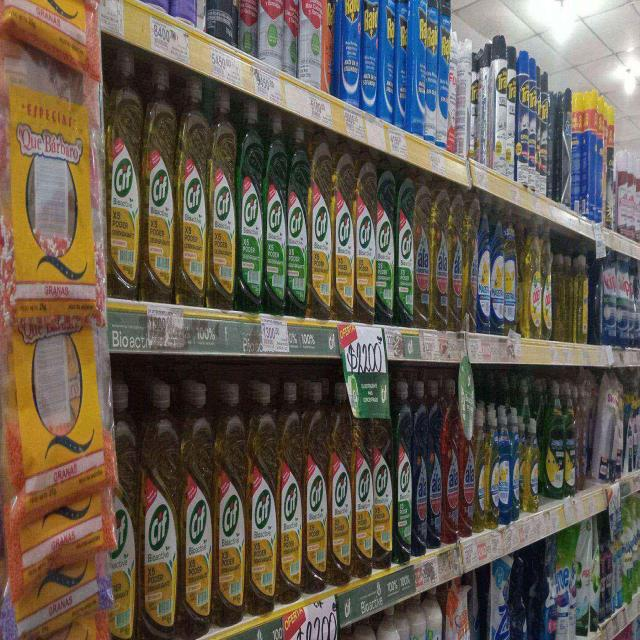ala_conc_amarillo: (431, 186, 449, 331), (414, 179, 431, 329), (449, 192, 464, 332)
ala_conc_azul: (427, 380, 442, 550), (413, 378, 427, 556)
ala_conc_rojo: (442, 379, 459, 544), (460, 402, 474, 538)
ala_crem_blanco: (426, 587, 442, 640), (409, 594, 426, 640)
cif_conc_bot_amarilla: (139, 377, 179, 638), (107, 42, 141, 298), (180, 379, 212, 637), (214, 378, 246, 624), (143, 64, 175, 301), (247, 380, 277, 614), (177, 72, 207, 306), (209, 85, 236, 310), (278, 379, 303, 603), (304, 377, 328, 593), (329, 380, 352, 585), (309, 134, 332, 320), (333, 144, 354, 320), (352, 394, 372, 577), (373, 394, 393, 569), (355, 155, 375, 321)
cif_conc_botella_verde: (237, 99, 263, 312), (264, 111, 287, 315), (287, 121, 308, 316), (394, 379, 412, 563), (376, 163, 394, 324), (395, 172, 413, 326)
magistral_con_amarillo: (524, 416, 540, 514), (486, 406, 498, 528), (475, 407, 486, 532)
magistral_con_azul: (477, 208, 490, 334), (491, 214, 504, 334), (498, 406, 511, 525), (511, 408, 522, 521)
